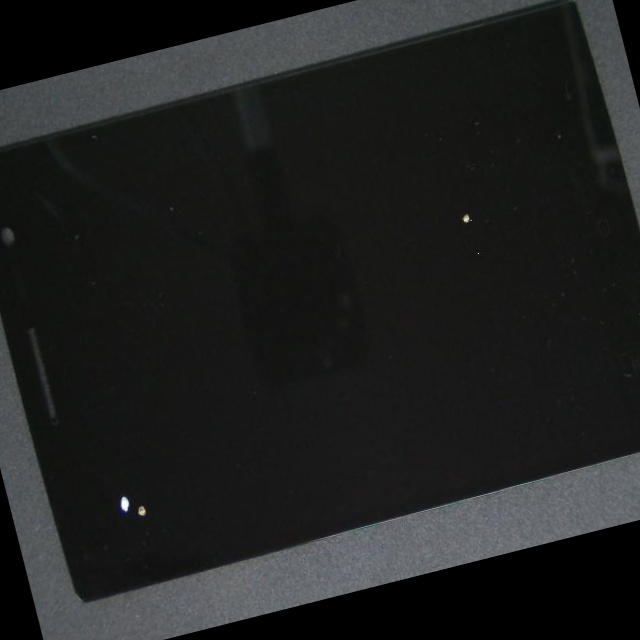stain: (170, 9, 640, 390), (23, 233, 216, 640)
